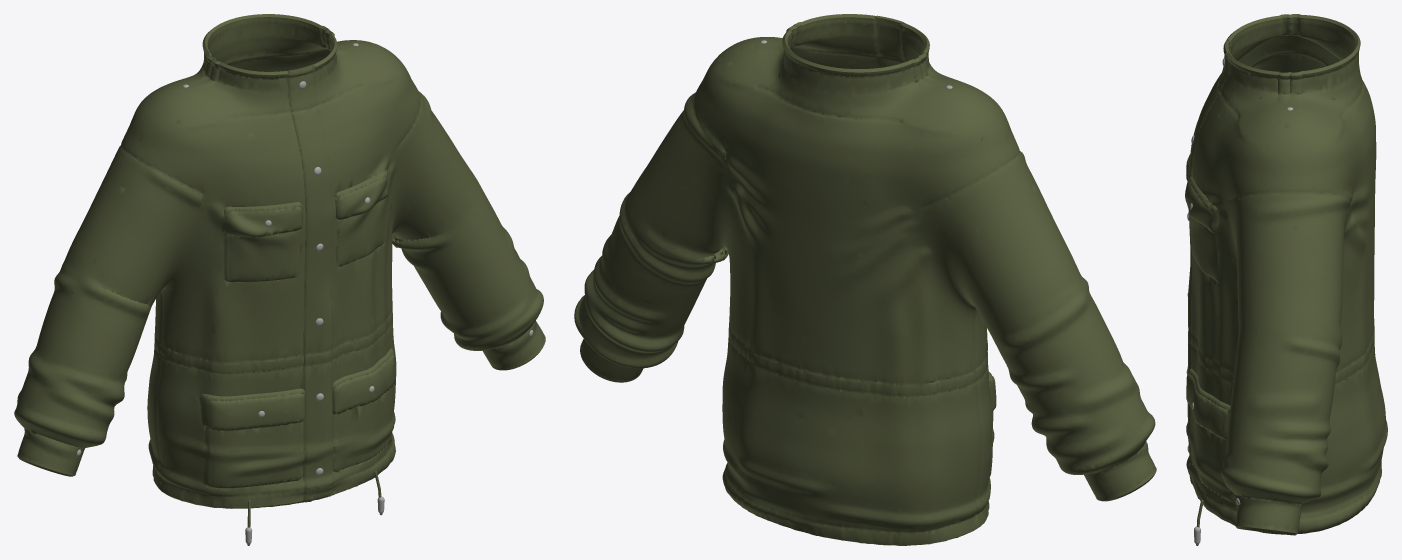
The model's file is 11_chaqueta_utility_pbr.glb.
3 views of the same model, side by side, from view 1: azimuth 30°, elevation 25°; view 2: azimuth 150°, elevation 25°; view 3: azimuth 270°, elevation 25° (orthographic). The views are drawn at different scales.
Parts seen in each view (by area): view 1: Camiseta PBR, Punteras y ojales; view 2: Camiseta PBR; view 3: Camiseta PBR, Punteras y ojales.
Boxes of the visible parts, x1,y1,x2,y2 form: Camiseta PBR: (14, 14, 545, 508); Punteras y ojales: (76, 43, 533, 544); Camiseta PBR: (574, 14, 1156, 545); Camiseta PBR: (1185, 14, 1387, 535); Punteras y ojales: (1186, 58, 1292, 544).
Bounding box in the file's own units: 1.01 × 0.848 × 0.3308.
3 materials, 1 textured.
